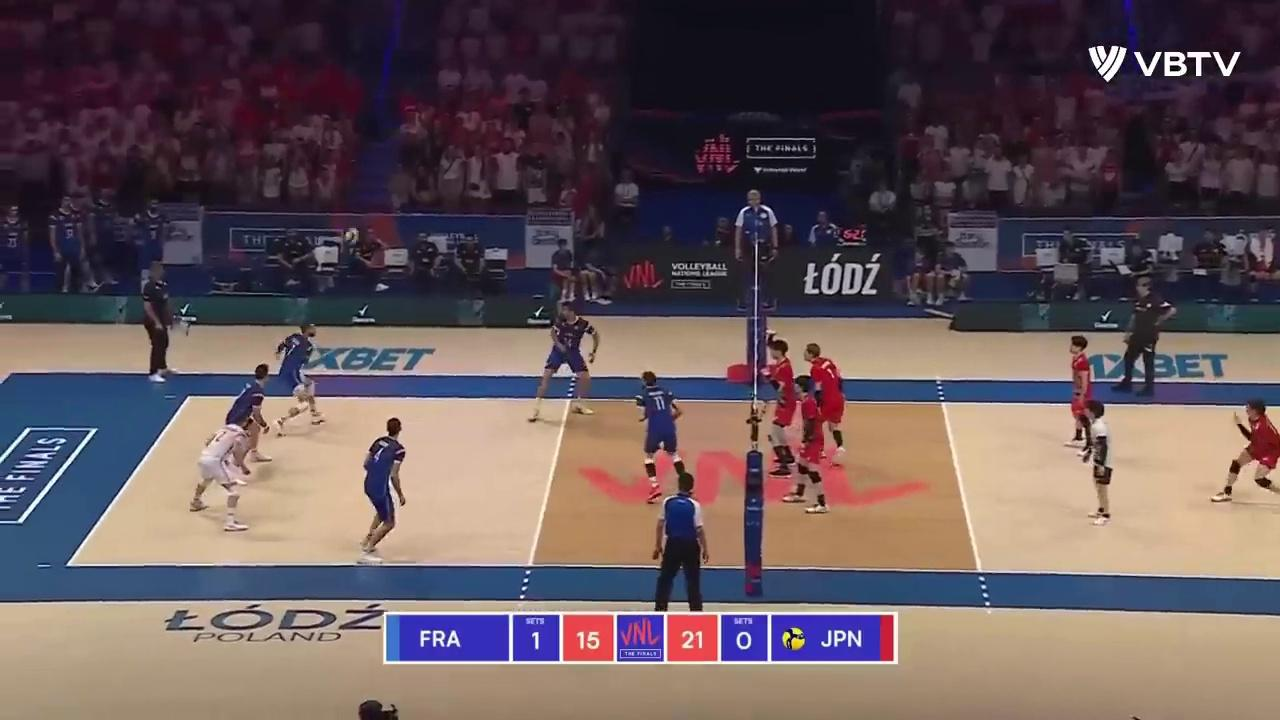ball: (345, 229, 360, 244)
